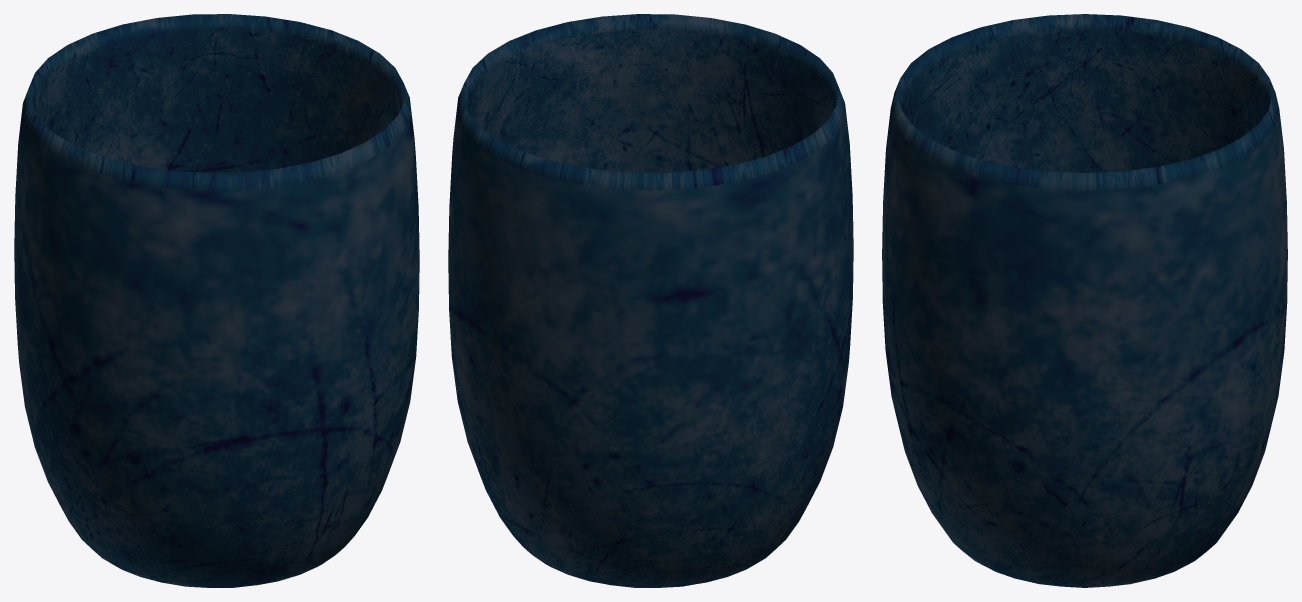
File: garbage can.fbx
3 renders of one model, left to right at view 1: azimuth 30°, elevation 25°; view 2: azimuth 150°, elevation 25°; view 3: azimuth 270°, elevation 25°, orthographic.
Parts seen in each view (by area): view 1: Cylinder; view 2: Cylinder; view 3: Cylinder.
Part boxes in pixels (box(x1,y1,x2,y2)): Cylinder: box(14, 14, 419, 587); Cylinder: box(448, 14, 853, 587); Cylinder: box(882, 14, 1287, 587).
Size of the model in its own units: 335 by 407 by 335.
Materials: 1 (1 with a texture image).
